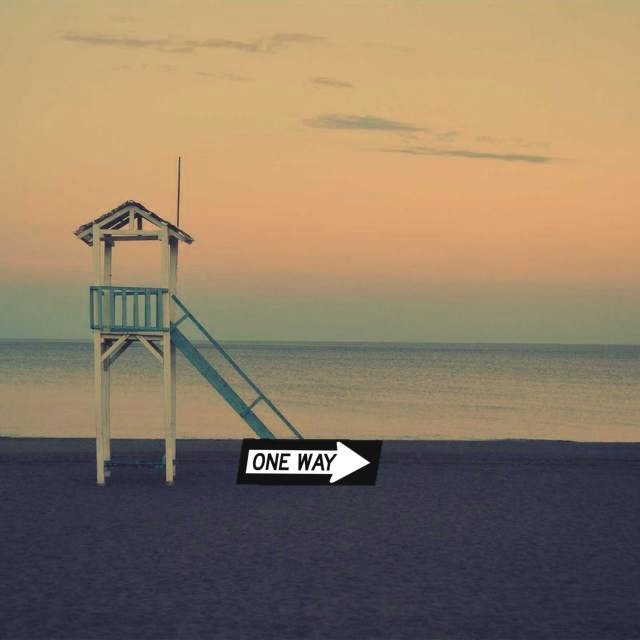ONE_WAY_ right: (235, 438, 383, 486)
